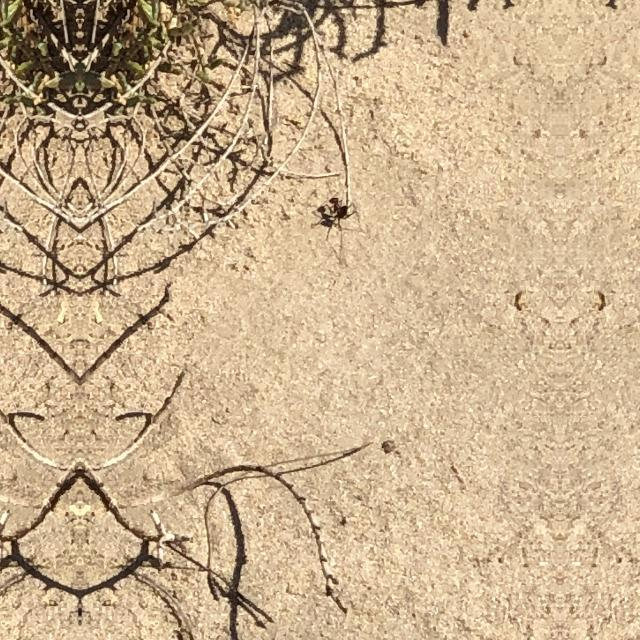Cataglyphis: (312, 182, 360, 242)
